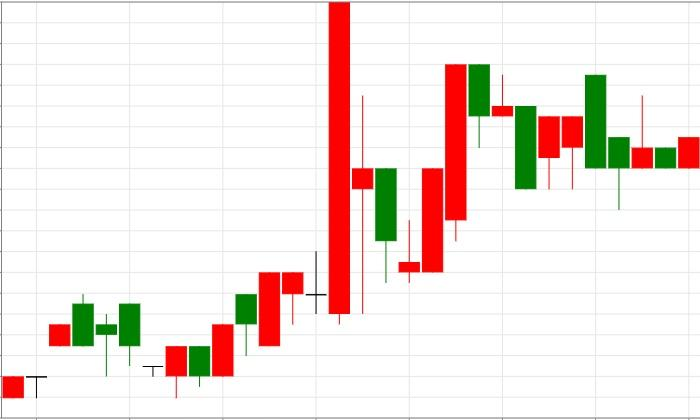bullish_engulfing_rise: (584, 74, 700, 212)
